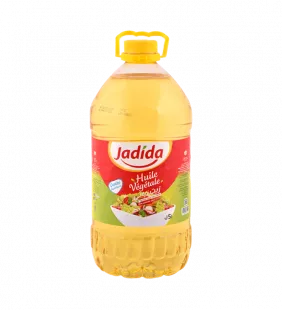JADIDA: (83, 20, 203, 284)
